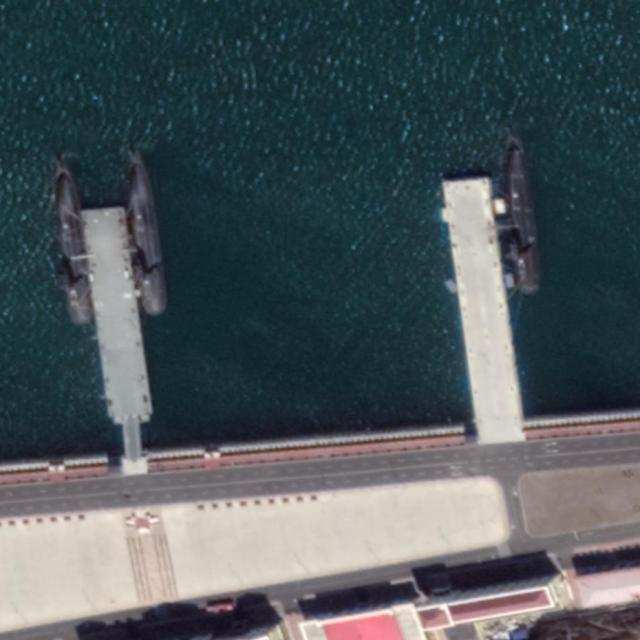Submarine: (117, 148, 175, 320), (45, 166, 95, 328), (498, 134, 546, 299)
